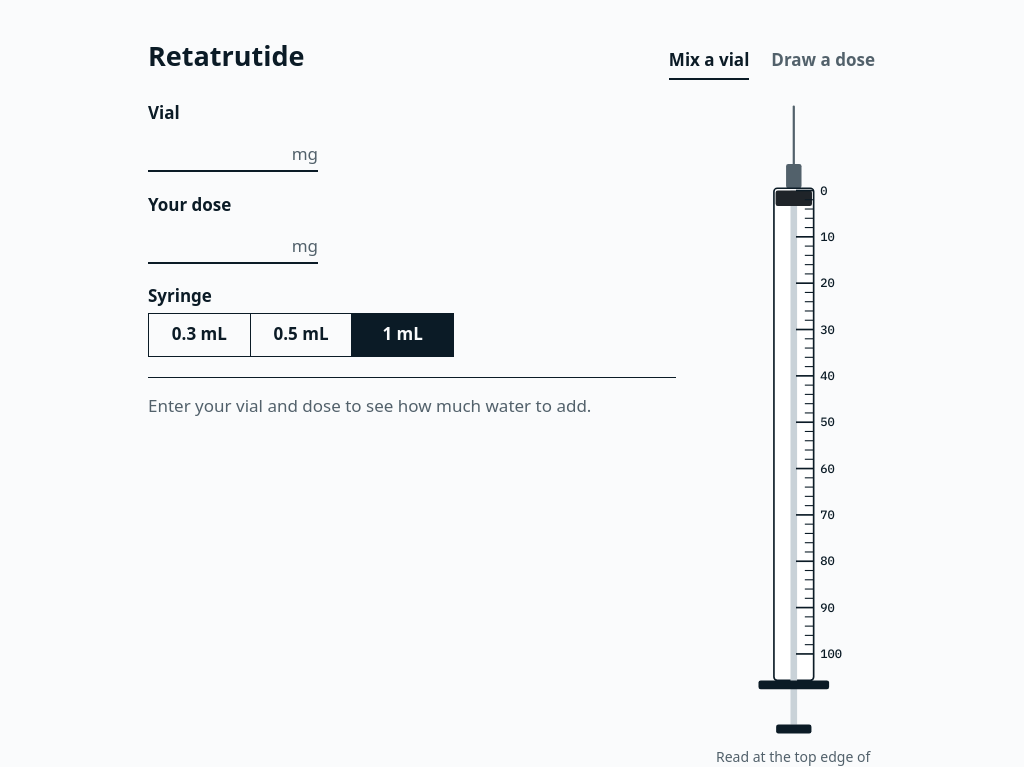
Test: water typed in Draw is still there after a trip to Mix
The image size is (1024, 767).
Click the tab "Draw a dose" at (823, 60), box 770,45 -> 876,76
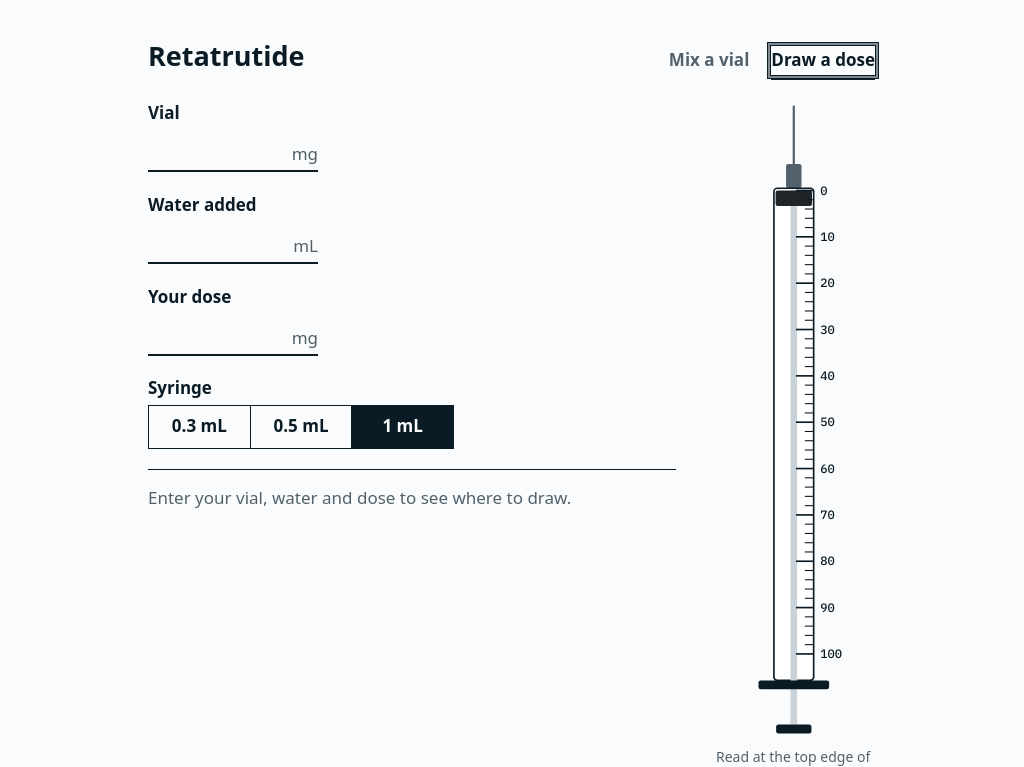
Type "2" into the field labelled "Water added" at (218, 242), box 148,222 -> 287,262
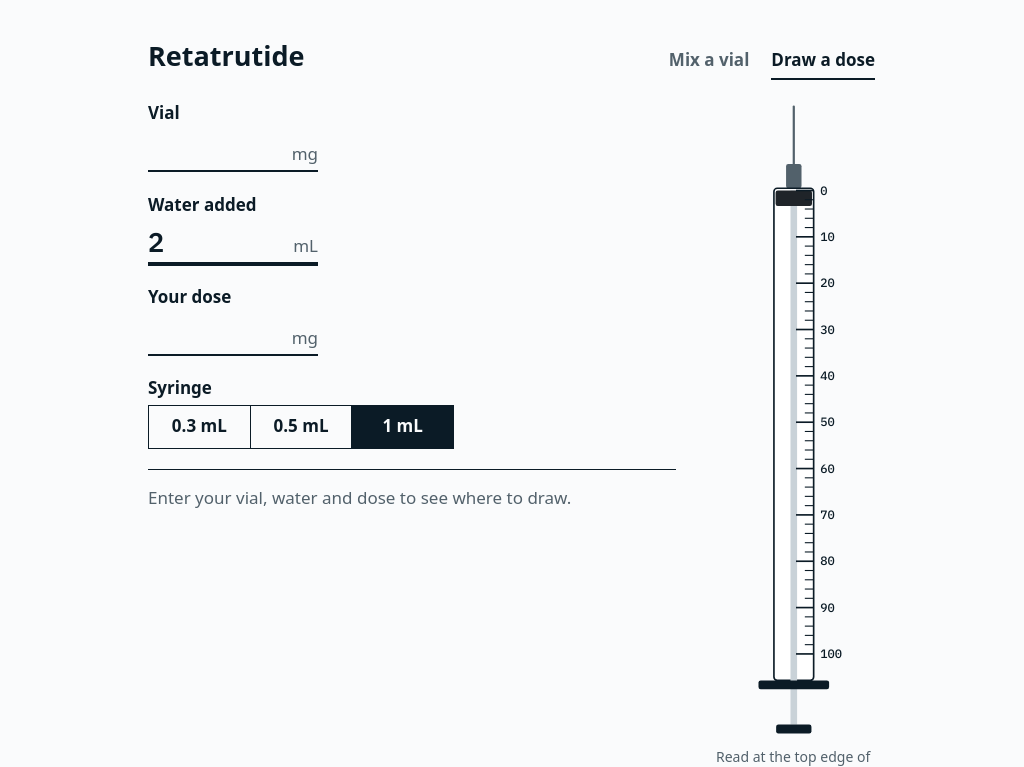
Click the tab "Mix a vial" at (709, 60), box 668,45 -> 750,76
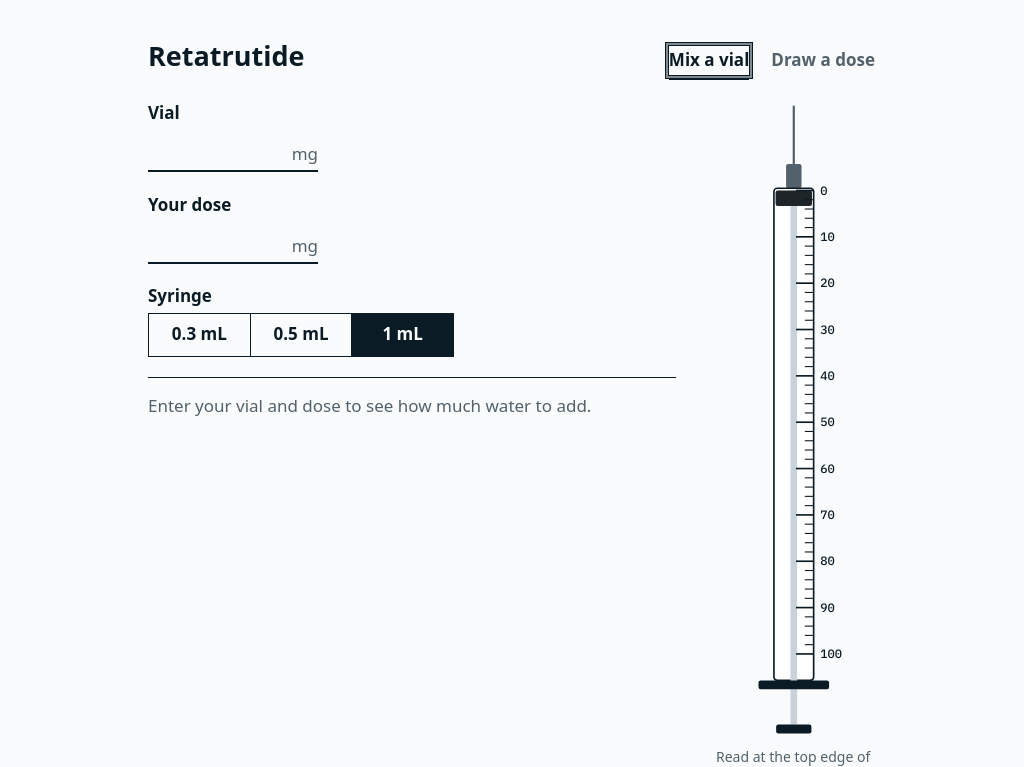
Expected: the label labelled "Water added" is gone
Click the tab "Draw a dose" at (823, 60), box 770,45 -> 876,76
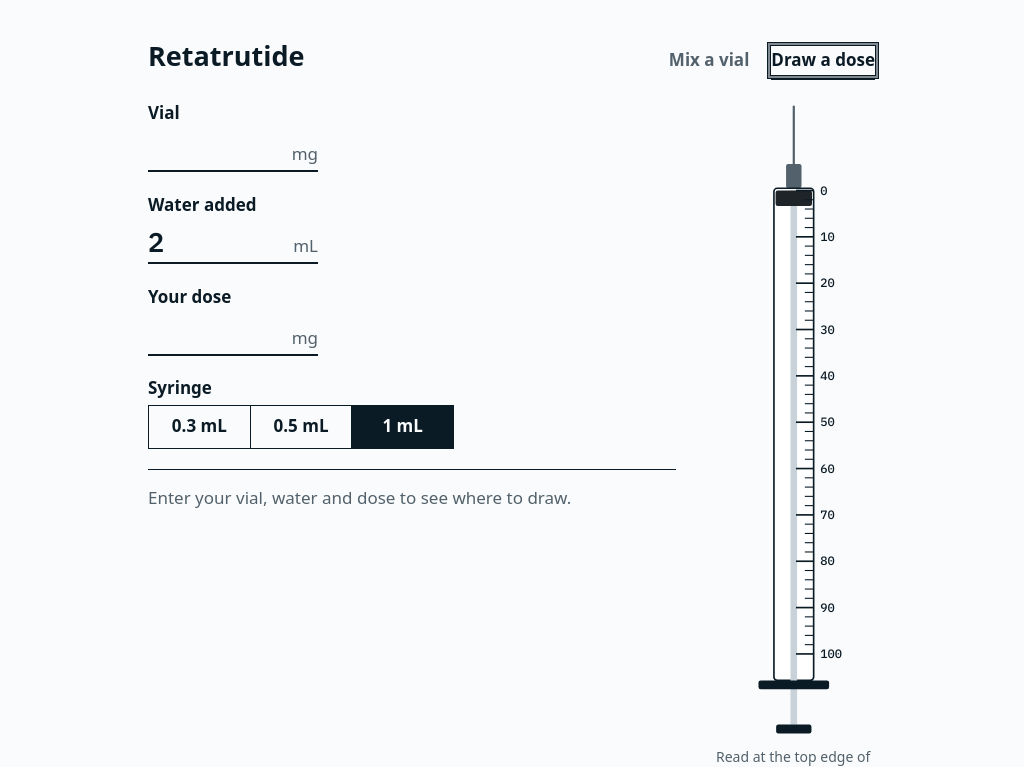
Expected: the field labelled "Water added" holds "2", 148,222 -> 287,262
